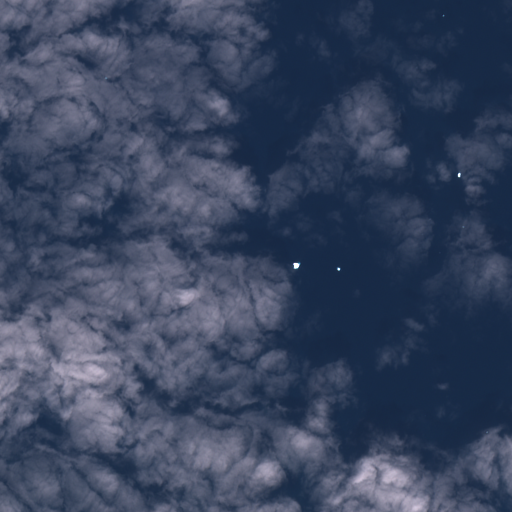Iceberg: (293, 262, 300, 268), (457, 172, 460, 177), (337, 267, 340, 270), (442, 14, 444, 16), (105, 77, 106, 78), (462, 226, 463, 227), (486, 431, 487, 432)
